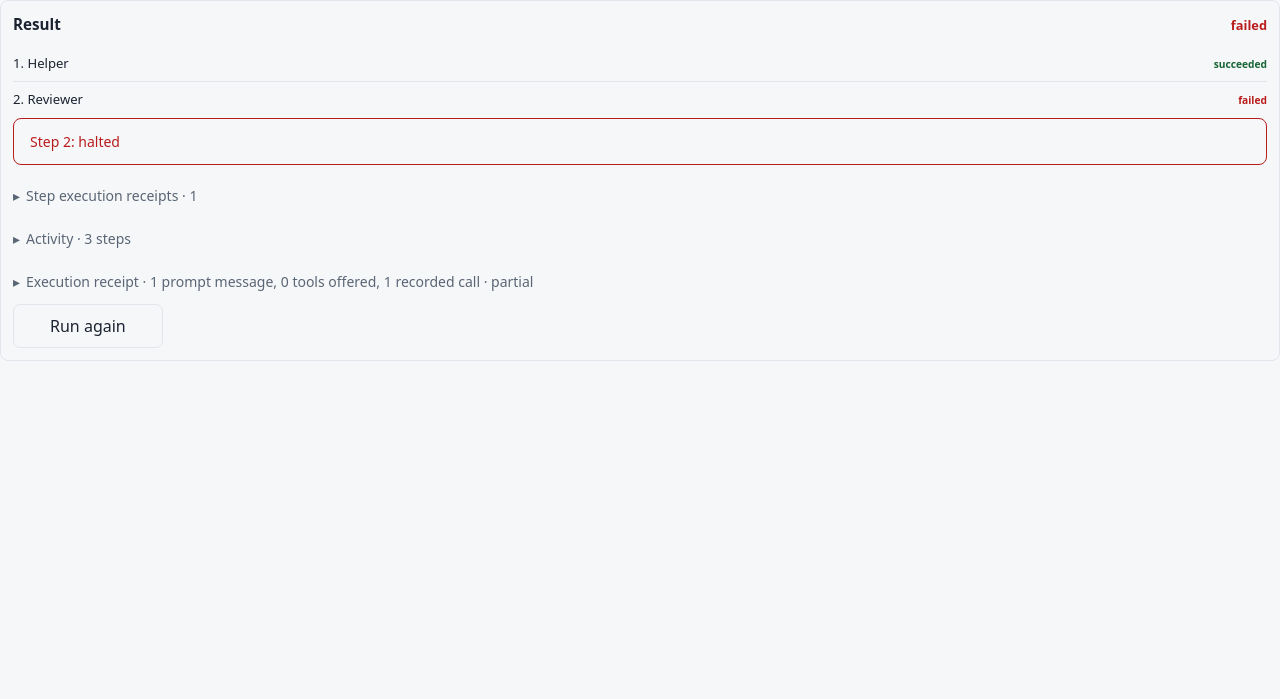
WorkflowRunReport execution evidence › retains real tool traces, prompts, safety and usage after a later step fails
The image size is (1280, 699).
Expected: the list item "1. Helper succeeded" is shown, [13, 54, 1267, 72]
Expected: the list item "2. Reviewer failed Step 2: halted" is shown, [13, 82, 1267, 165]
Click the heading "Step execution receipts · 1". click: click(112, 196)
box: [26, 186, 197, 205]
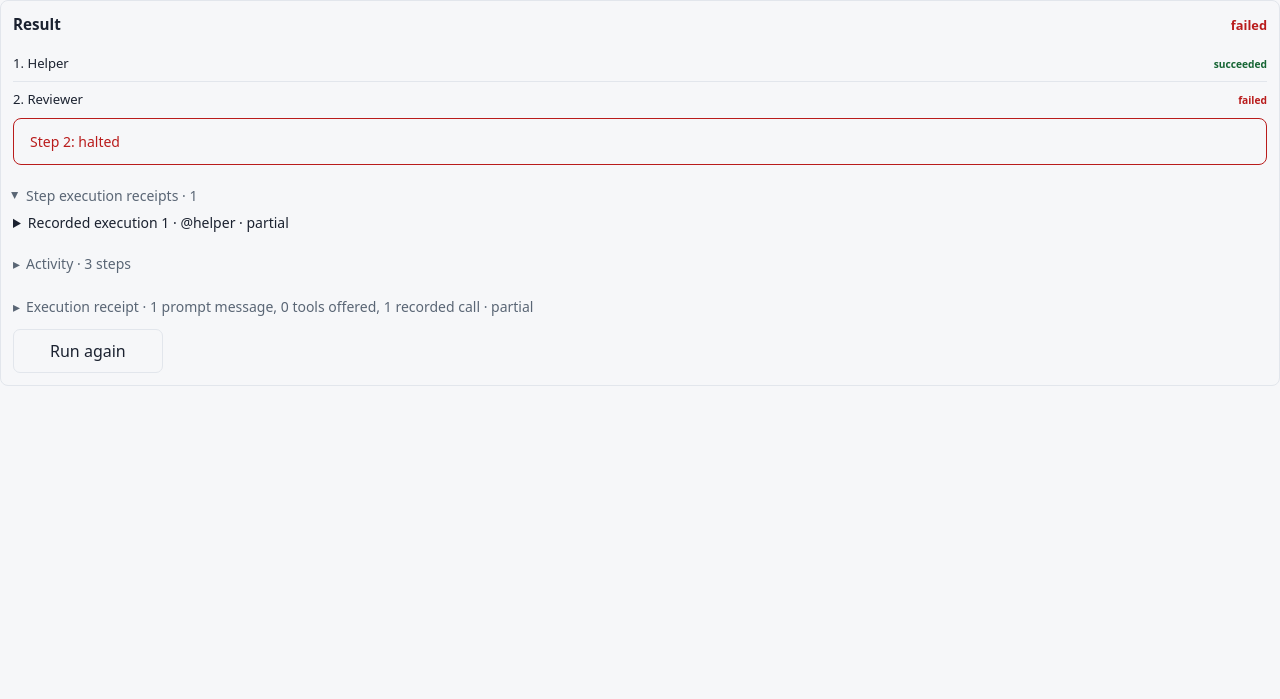
Click the heading "Recorded execution 1 · @helper · partial". click: click(158, 223)
box: [28, 213, 289, 232]
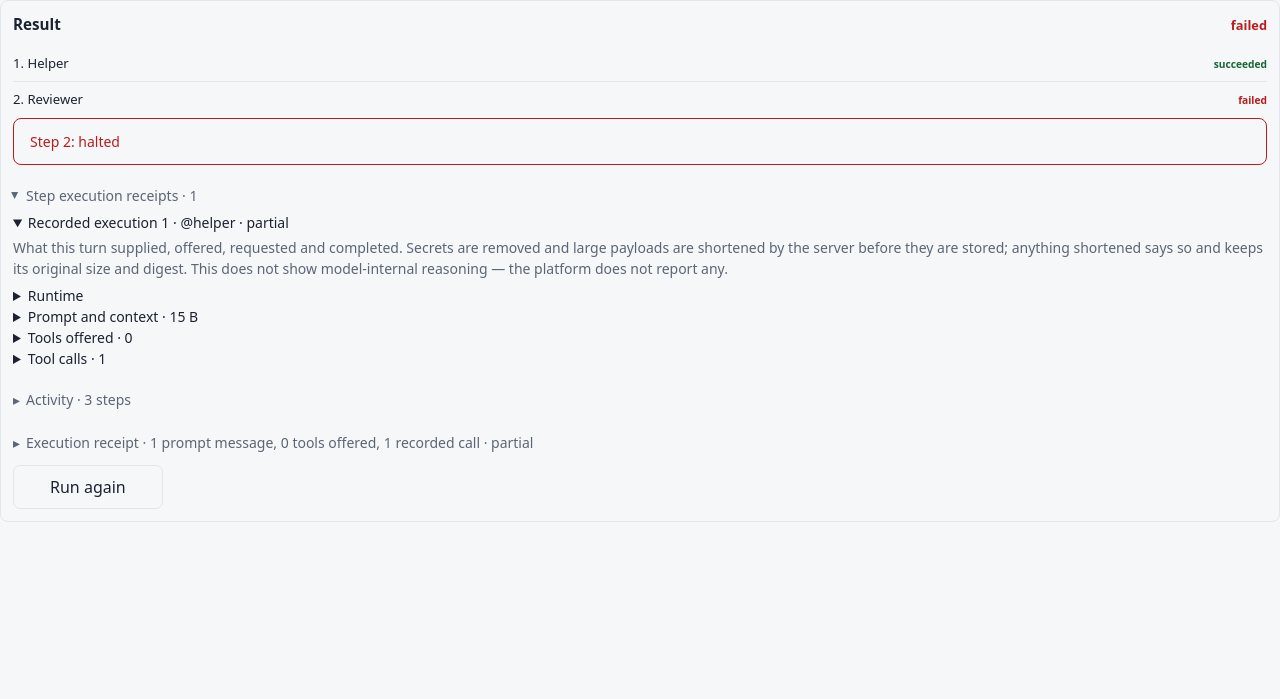
Click the heading "Runtime". click: click(56, 296)
box: [28, 286, 84, 305]
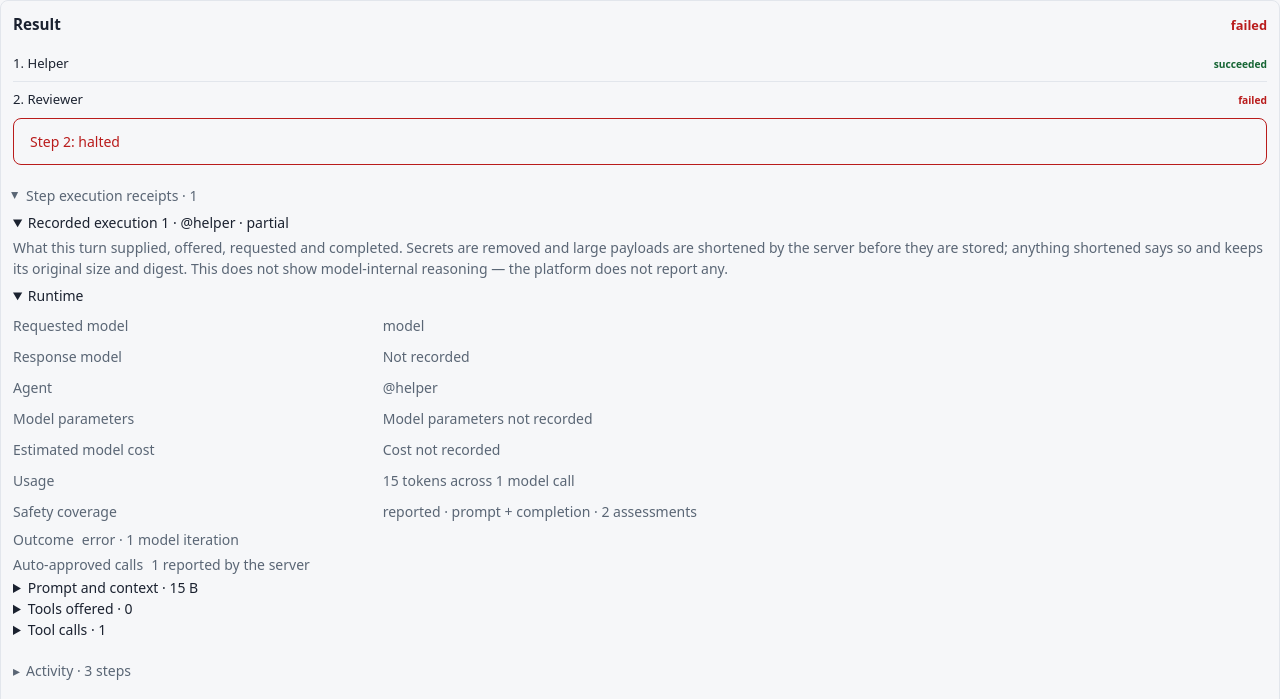
Expected: the text "15 tokens across 1 model call" is shown, [383, 471, 575, 490]
Expected: the text "reported · prompt + completion · 2 assessments" is shown, [383, 502, 697, 521]
Click the heading "Tool calls · 1". click: click(67, 630)
box: [28, 620, 106, 639]
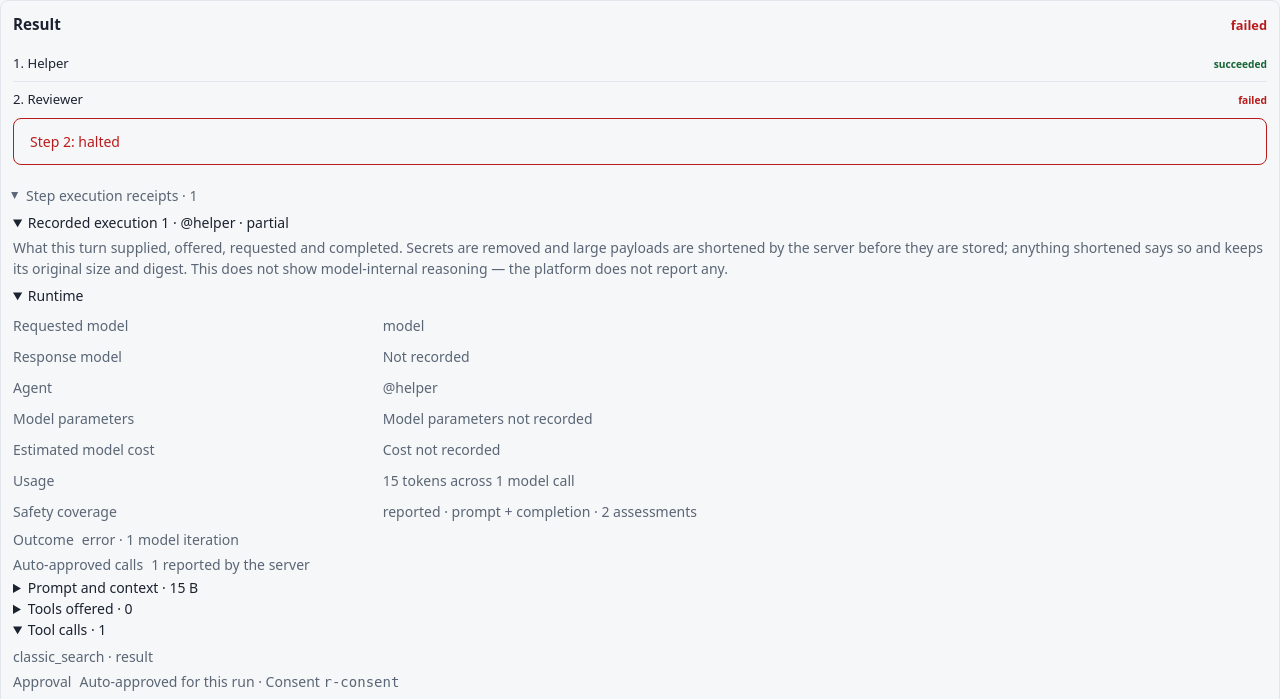
Expected: the text "Auto-approved for this run · Consent r-consent" is shown, [79, 672, 399, 691]
